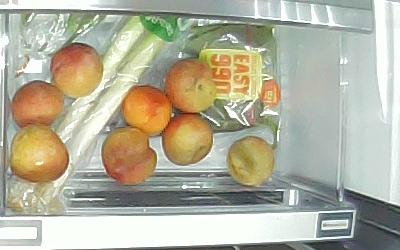prune: (10, 125, 69, 182), (101, 127, 158, 184), (51, 43, 103, 98), (166, 58, 217, 113), (162, 113, 213, 166), (121, 85, 172, 136), (227, 136, 275, 185), (13, 81, 64, 127)
